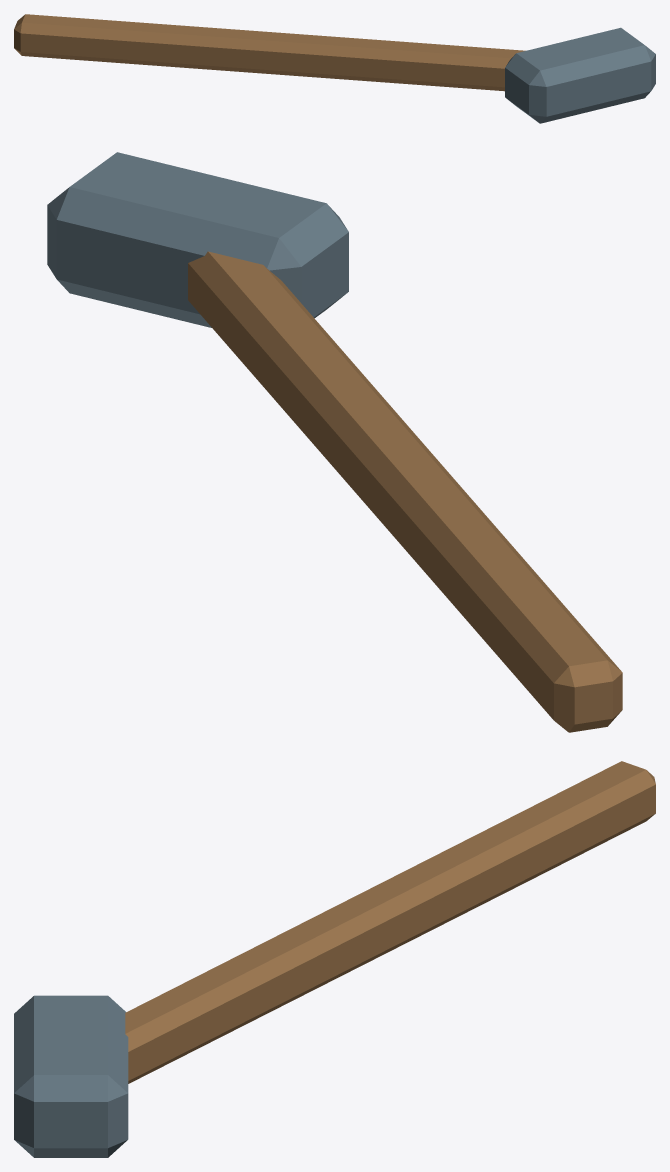
Rendered from objects-tools.lod0.glb.
3 views of the same model, one above another, from view 1: azimuth 30°, elevation 25°; view 2: azimuth 150°, elevation 25°; view 3: azimuth 270°, elevation 25° (orthographic). The views are drawn at different scales.
Parts seen in each view (by area): view 1: objects-tools__body; view 2: objects-tools__body; view 3: objects-tools__body.
Part boxes in pixels (x1,y1,x2,y2): objects-tools__body: (14,14,655,123); objects-tools__body: (47,152,622,732); objects-tools__body: (14,761,655,1157).
Bounding box in the file's own units: 0.709 × 0.08 × 0.5622.
